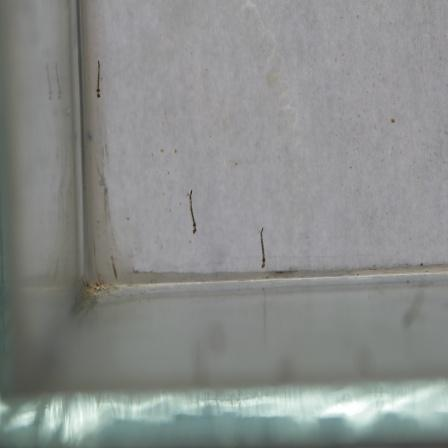Jentik-Nyamuk: (184, 186, 200, 237), (91, 56, 108, 100), (257, 221, 268, 270)
